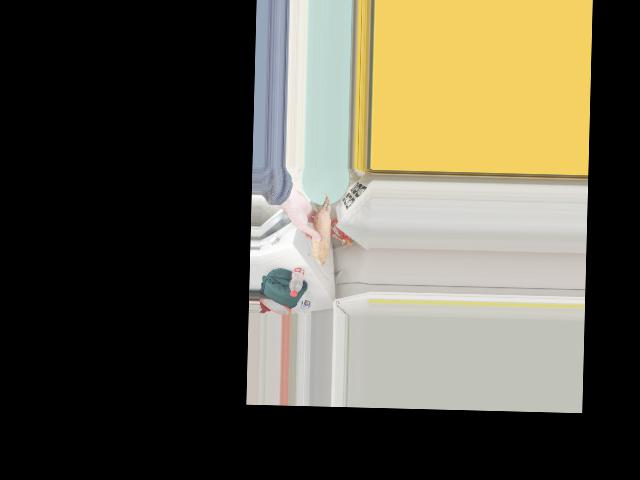sweet_potato: (307, 193, 332, 260)
